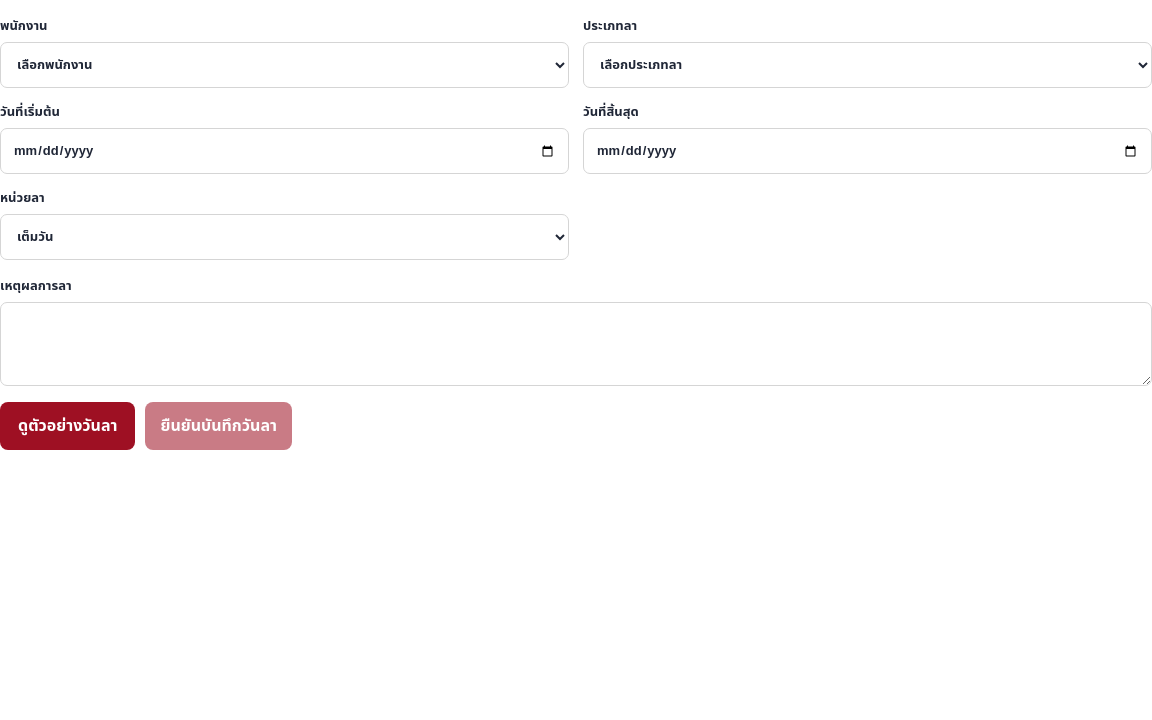
Scenario: LeaveEntryForm preview gate › requires a fresh preview and explicit confirmation before enabling save
The width and height of the screenshot is (1152, 720).
Expected: the button "ยืนยันบันทึกวันลา" is disabled, [146,402,292,450]
Click the button "ดูตัวอย่างวันลา".
click(68, 426)  # box [0,402,136,450]
(page scrolled)
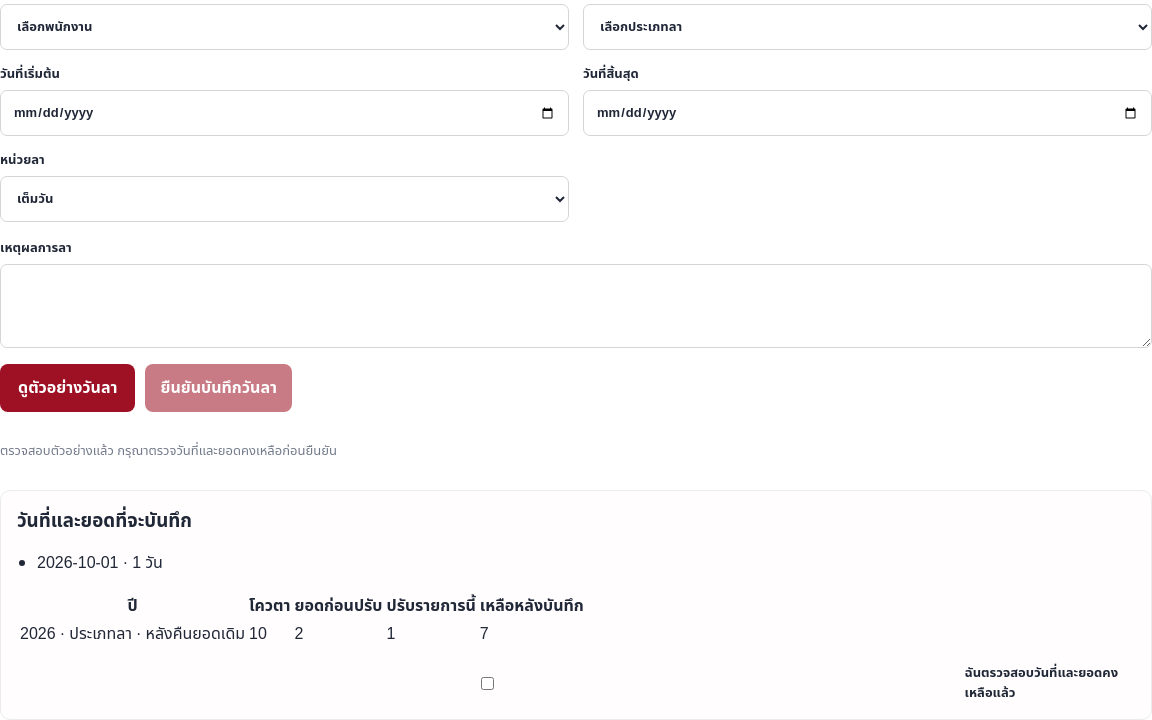
Expected: the element named "ตัวอย่างวันลา" is shown, [0,490,1151,719]
Click the checkbox labelled "ฉันตรวจสอบวันที่และยอดคงเหลือแล้ว".
click(487, 683)  # box [21,676,954,690]
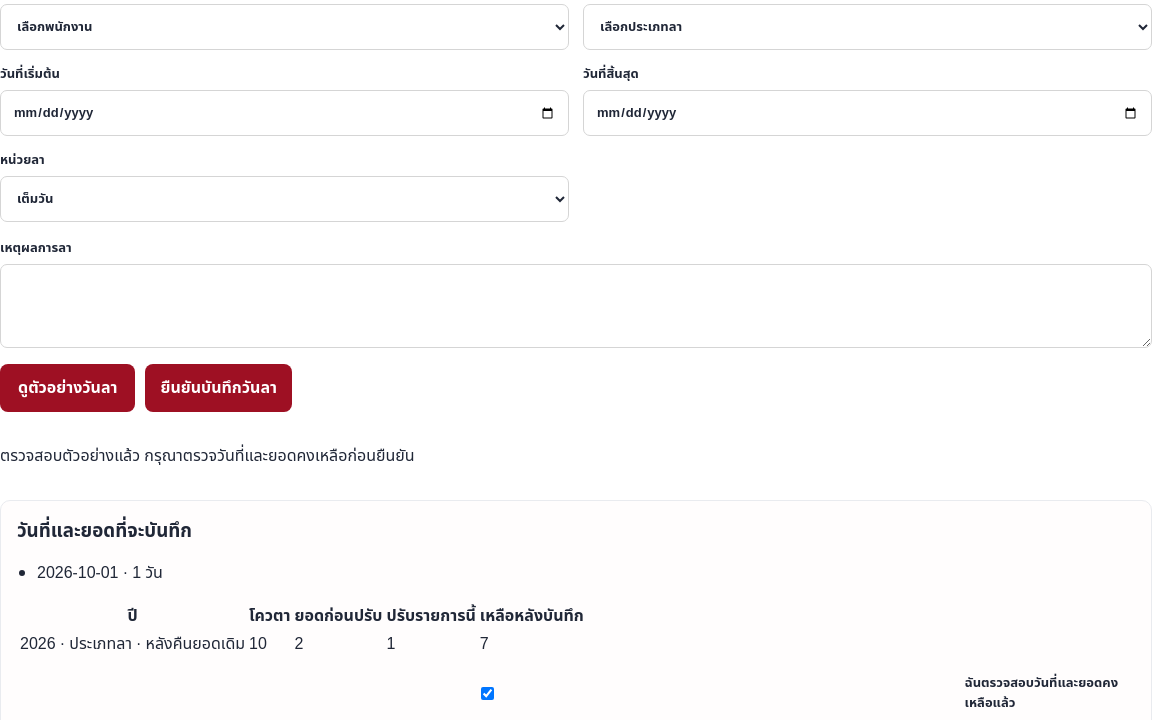
Expected: the list item "2026-10-01 · 1 วัน" is shown, [37,561,163,585]
Expected: the text "7" is shown, [479,631,585,657]
Expected: the button "ยืนยันบันทึกวันลา" is enabled, [146,364,292,412]
